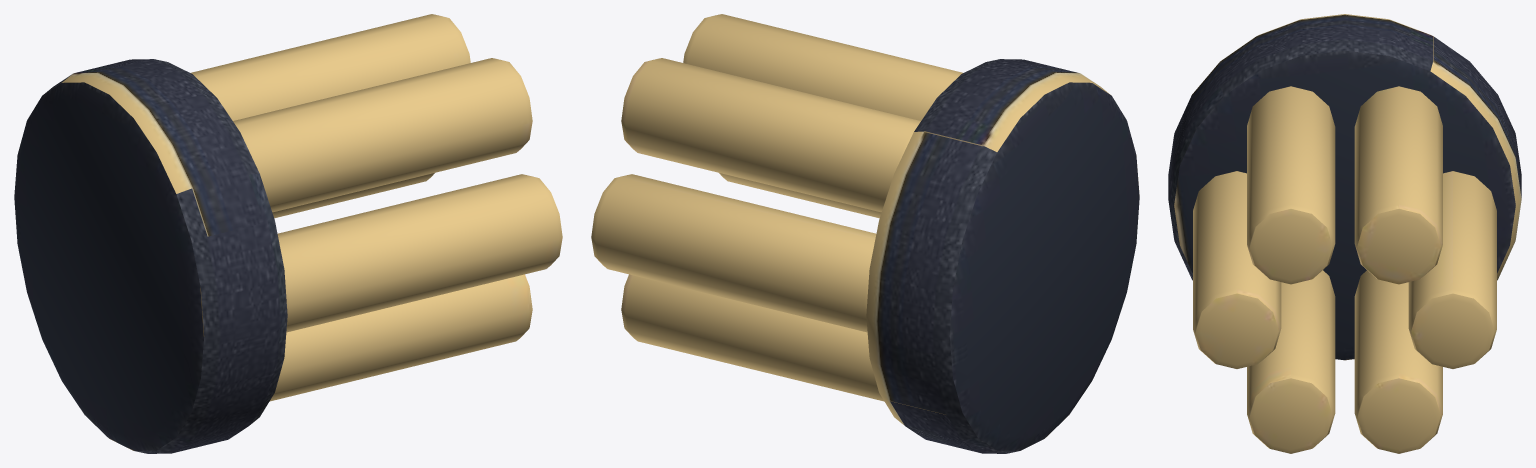
The model's file is att_speedloader.glb.
The picture shows the model from 3 angles, left to right: view 1: azimuth 30°, elevation 25°; view 2: azimuth 150°, elevation 25°; view 3: azimuth 270°, elevation 25°; orthographic projection. The views are drawn at different scales.
Visible parts, largest first — view 1: disc, round3, round2, round4, round1, round0; view 2: disc, round0, round1, round5, round2, round3; view 3: disc, round1, round2, round0, round3, round4, round5.
Boxes of the visible parts, x1=… form: disc: x1=14, y1=59, x2=287, y2=453; round3: x1=277, y1=174, x2=562, y2=332; round2: x1=233, y1=58, x2=532, y2=212; round4: x1=269, y1=274, x2=532, y2=401; round1: x1=191, y1=14, x2=470, y2=120; round0: x1=272, y1=173, x2=434, y2=218; disc: x1=866, y1=59, x2=1139, y2=453; round0: x1=591, y1=174, x2=876, y2=332; round1: x1=621, y1=58, x2=920, y2=212; round5: x1=621, y1=274, x2=884, y2=401; round2: x1=683, y1=14, x2=962, y2=120; round3: x1=719, y1=173, x2=881, y2=218; disc: x1=1168, y1=14, x2=1521, y2=360; round1: x1=1354, y1=86, x2=1442, y2=284; round2: x1=1247, y1=86, x2=1335, y2=284; round0: x1=1408, y1=171, x2=1496, y2=368; round3: x1=1193, y1=171, x2=1281, y2=368; round4: x1=1247, y1=270, x2=1335, y2=453; round5: x1=1354, y1=270, x2=1442, y2=453.
Bounding box in the file's own units: 0.04 × 0.036 × 0.036.
Materials: 1 (1 with a texture image).
